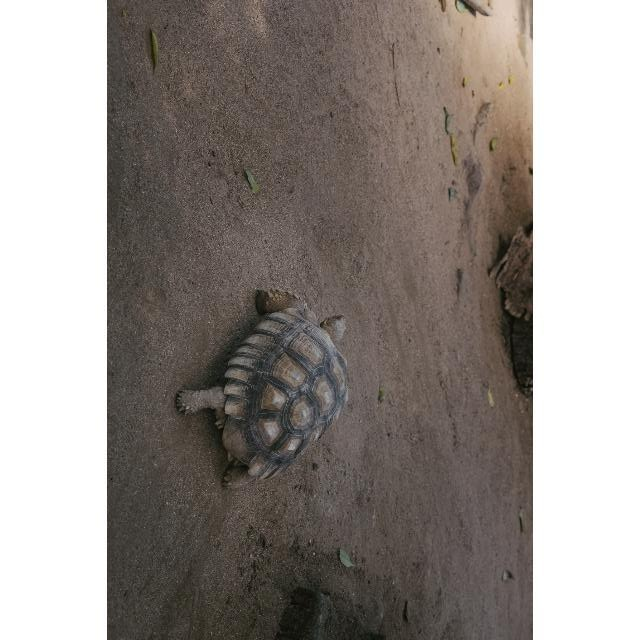turtle: (175, 287, 351, 489)
